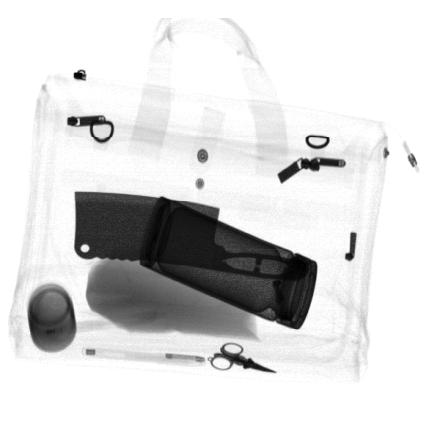Knife: (74, 190, 311, 280)
Scissors: (209, 341, 278, 374)
